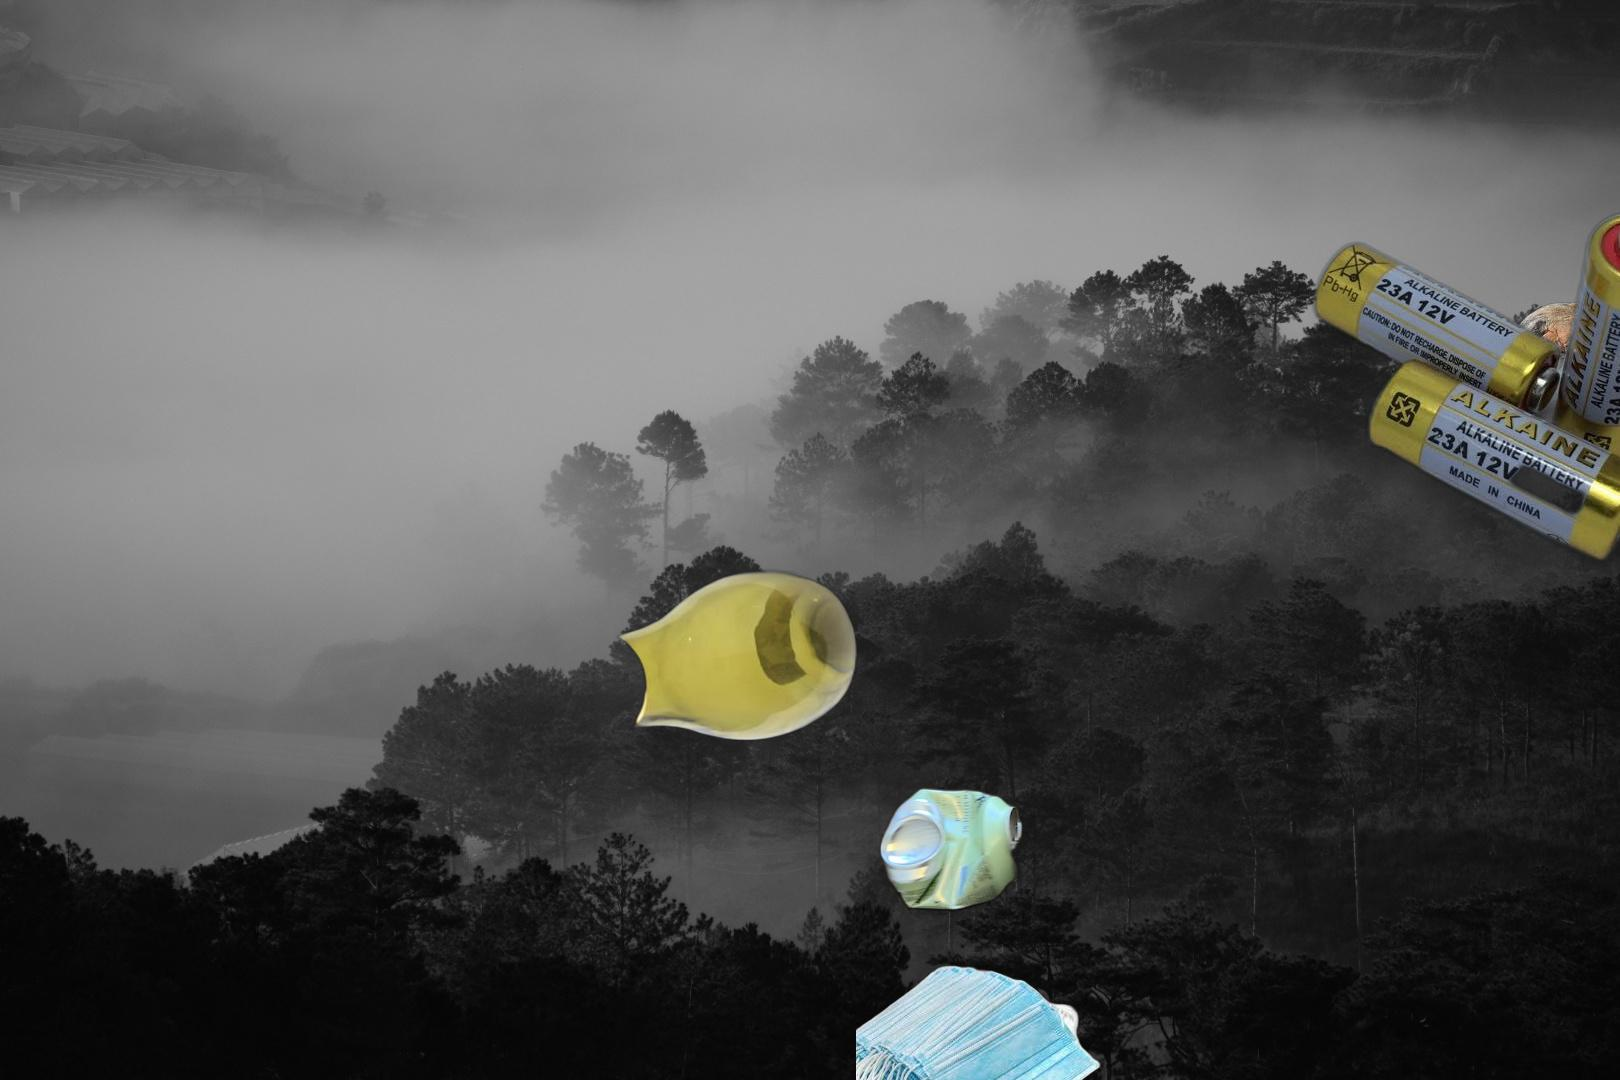battery: (1304, 190, 1620, 569)
biological: (1503, 286, 1620, 441)
glass: (532, 567, 865, 788)
metal-cans: (875, 782, 1028, 916)
trash: (856, 964, 1104, 1080)
